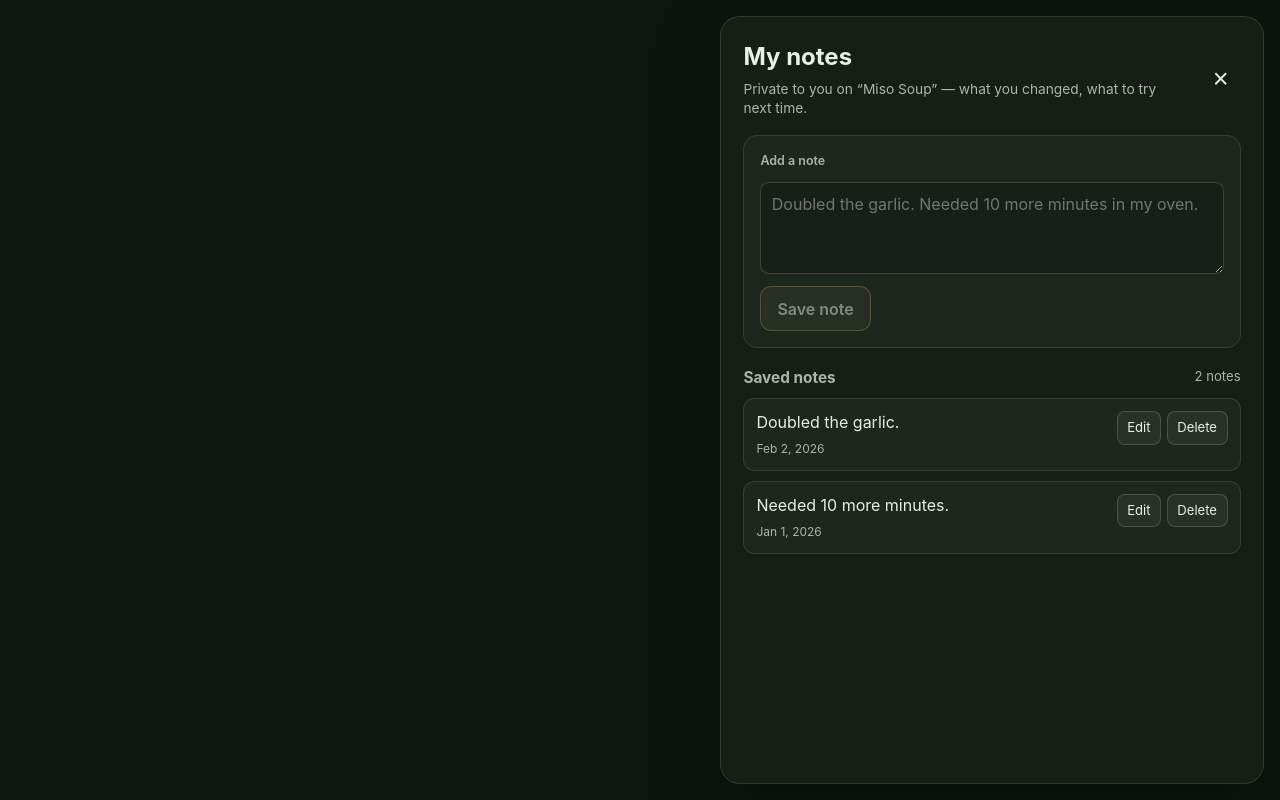
RecipeNotesModal › edits an existing note
Click the button with aria-label "Edit note 1" at (1139, 428), box [1116,411,1161,445]
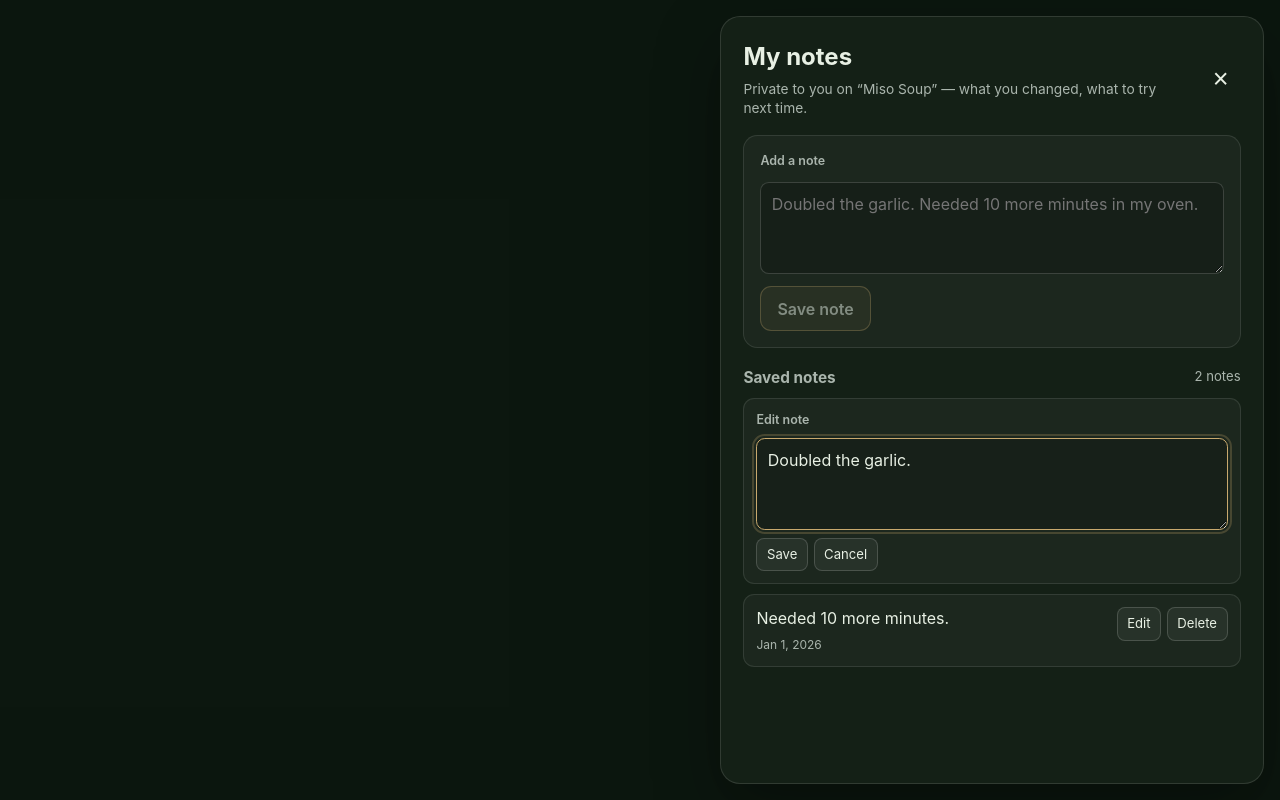
Replace the text in the text box labelled "Edit note" with "Doubled the garlic and the ginger." at (992, 484), box [756,438,1228,530]
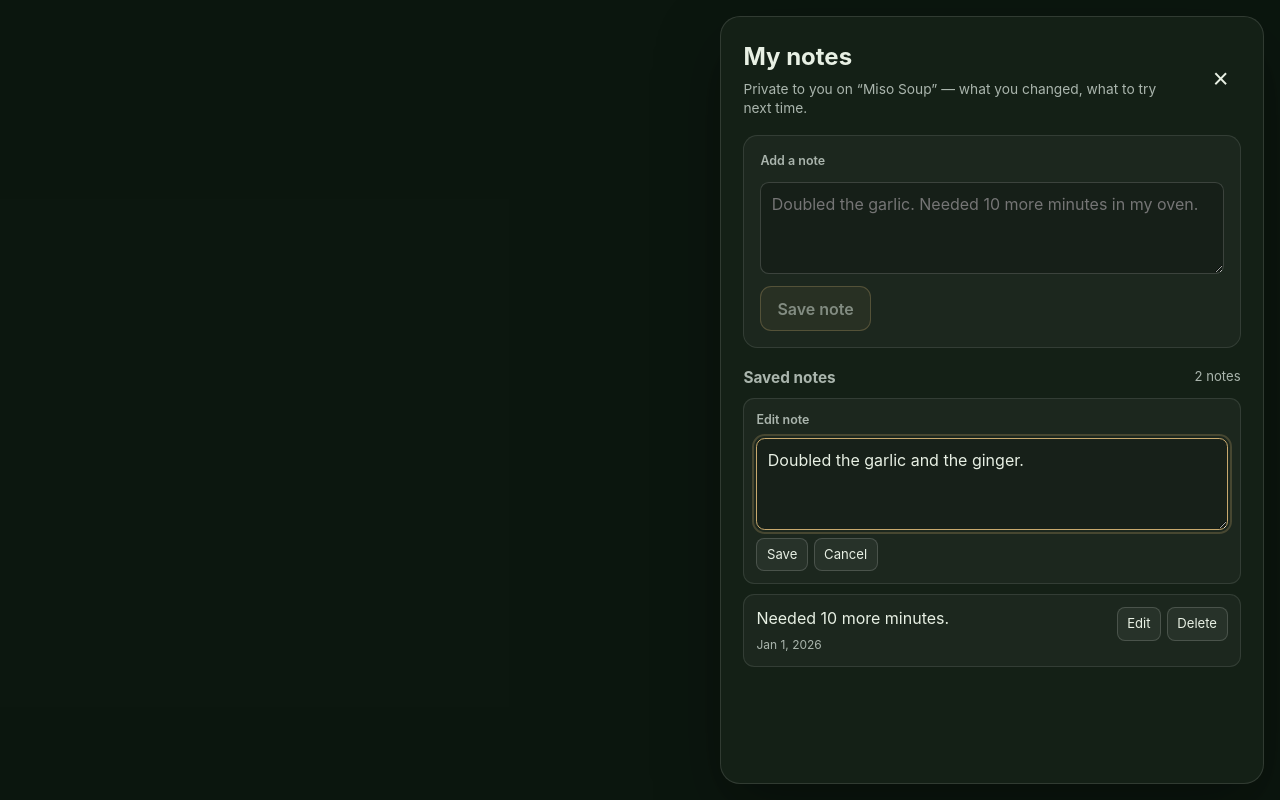
Click the button "Save" at (782, 554), box [756,538,808,571]
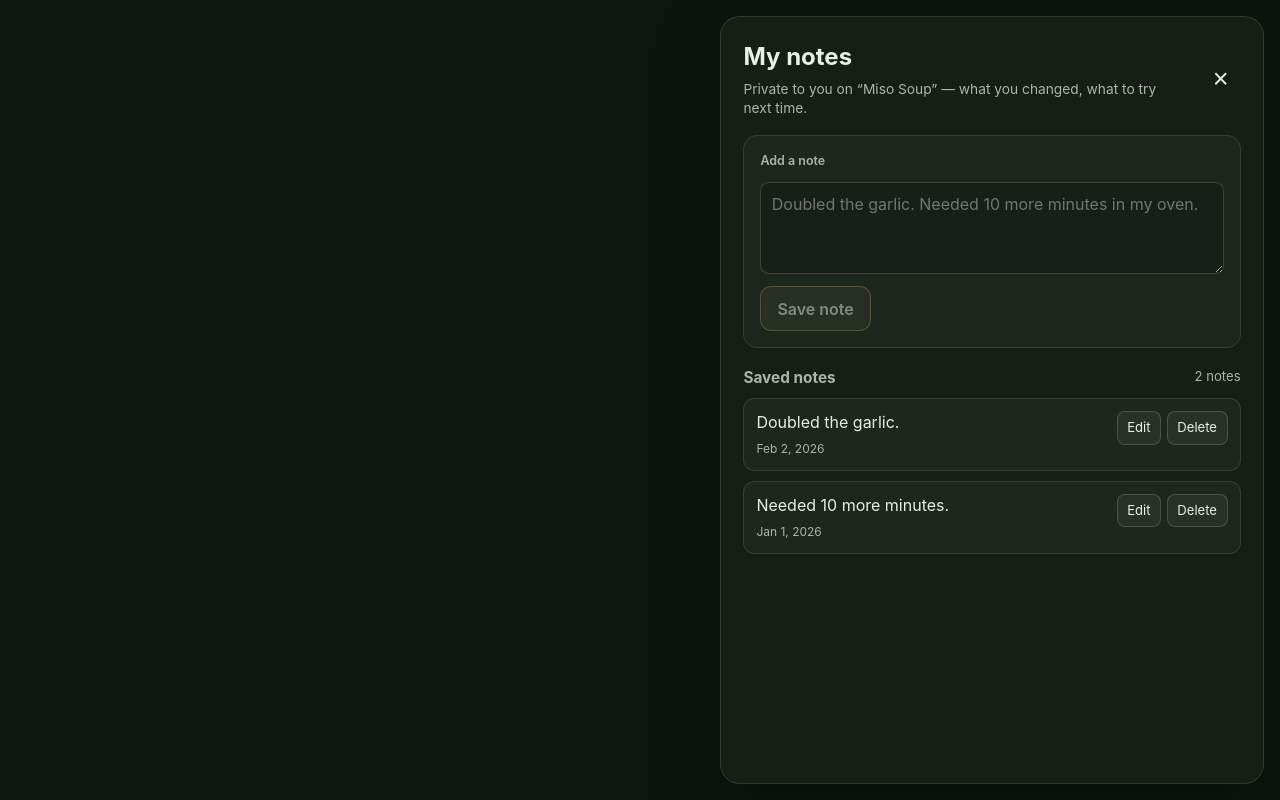
Expected: the label labelled "Edit note" is gone
